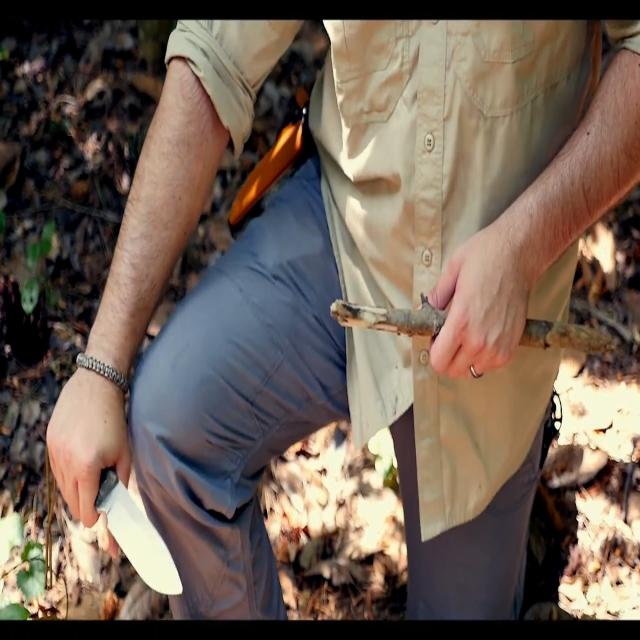knife: (98, 469, 190, 600)
